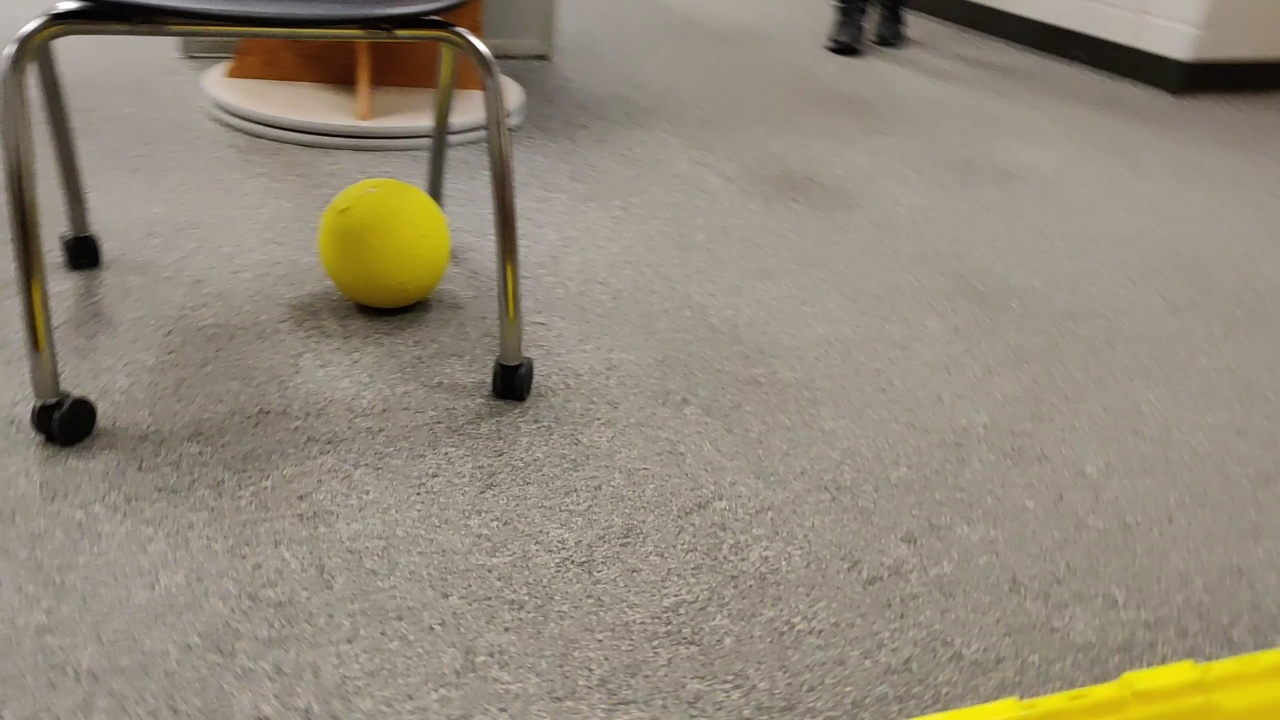Ball: (320, 183, 447, 312)
